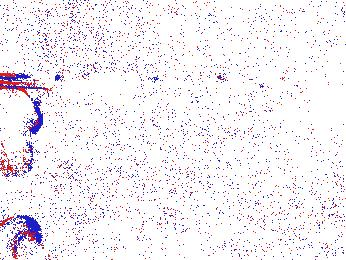flame jellyfish: (1, 84, 44, 178), (181, 196, 234, 244), (1, 215, 51, 260)
